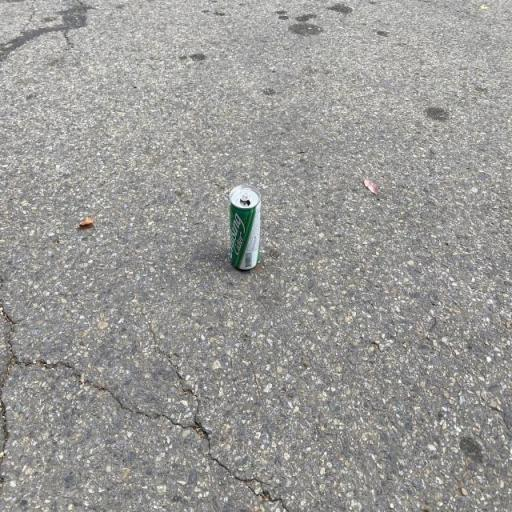metal: (193, 167, 283, 279)
